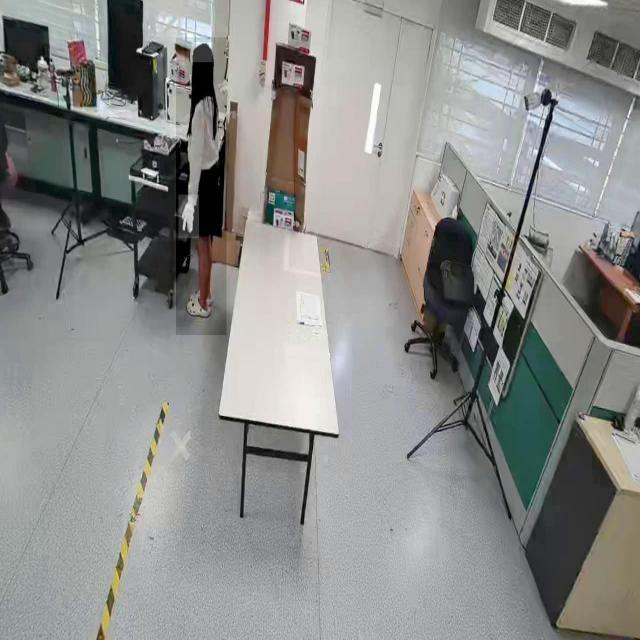gloves: (178, 194, 200, 240)
